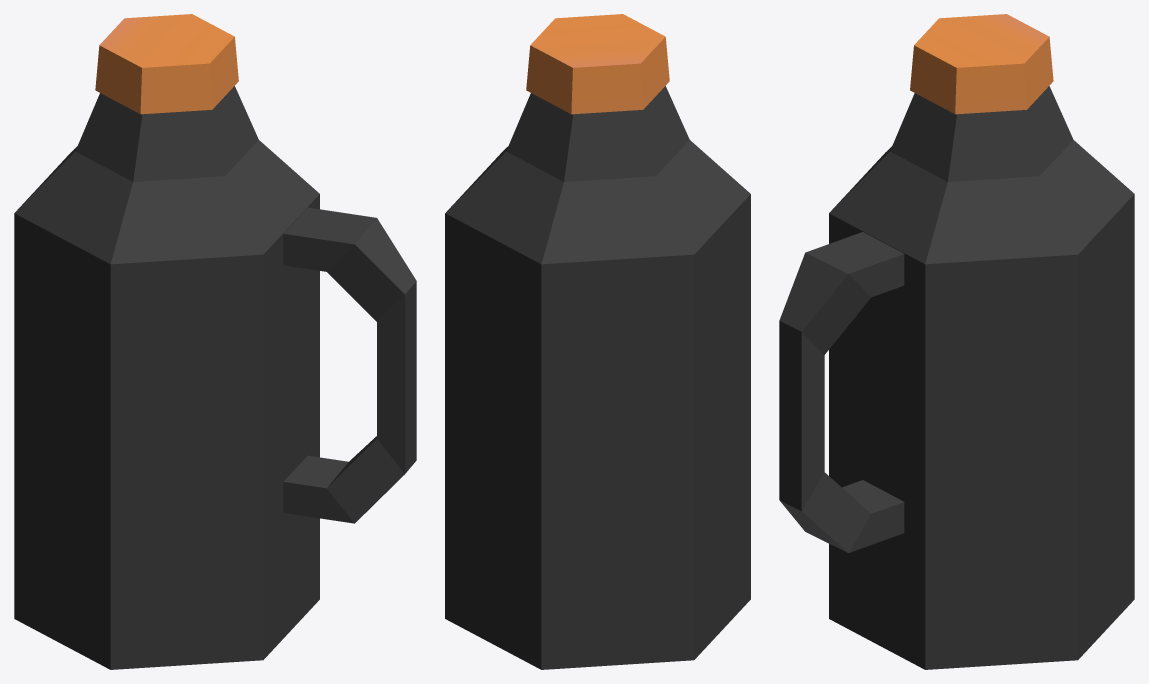
File: Laundry_Bottle_handle1.fbx
3 renders of one model, left to right at view 1: azimuth 30°, elevation 25°; view 2: azimuth 150°, elevation 25°; view 3: azimuth 270°, elevation 25°, orthographic.
Visible parts, largest first — view 1: Laundry_Bottle_handle1; view 2: Laundry_Bottle_handle1; view 3: Laundry_Bottle_handle1.
Boxes of the visible parts, box(x1,y1,x2,y2) form: Laundry_Bottle_handle1: box(14, 14, 416, 669); Laundry_Bottle_handle1: box(445, 14, 750, 669); Laundry_Bottle_handle1: box(779, 14, 1134, 669).
Size of the model in its own units: 16.58 by 31.69 by 17.95.
